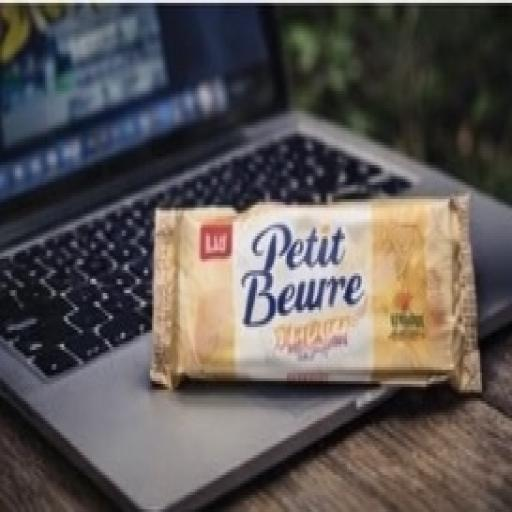petit-beurre: (124, 158, 506, 468)
